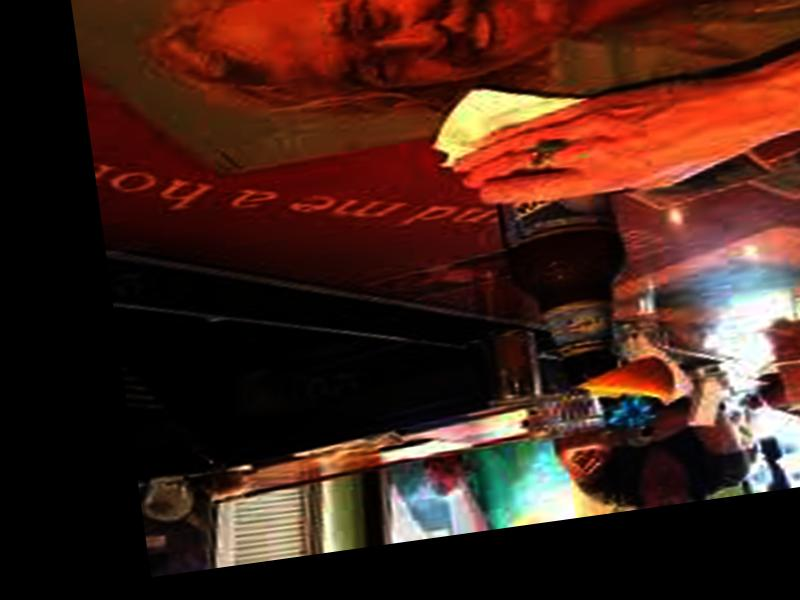Beer: (482, 113, 634, 398)
